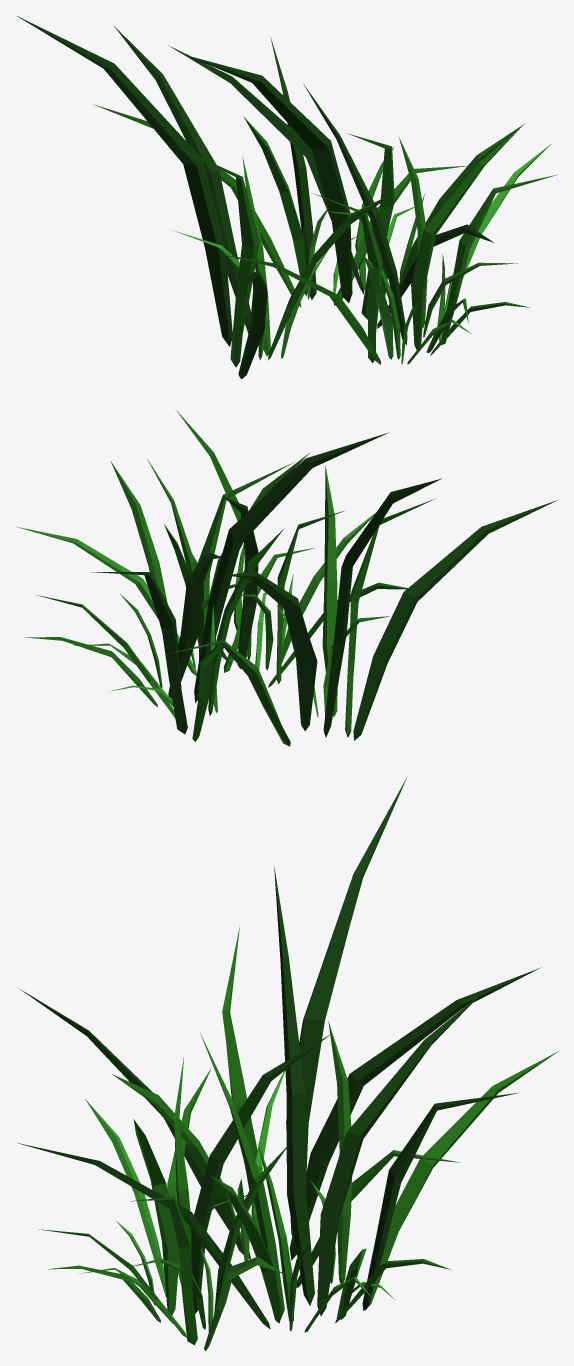
Rendered from GrassPatch_00_1.FBX.
3 renders of one model, top to bottom at view 1: azimuth 30°, elevation 25°; view 2: azimuth 150°, elevation 25°; view 3: azimuth 270°, elevation 25°, orthographic. The views are drawn at different scales.
Visible parts, largest first — view 1: Grass061, Grass031, Grass059, Grass060, Grass044, Grass046, Grass029, Grass038, Grass036, Grass053, Grass057, Grass058 (+16 smaller); view 2: Grass031, Grass057, Grass061, Grass059, Grass038, Grass058, Grass029, Grass060, Grass046, Grass036, Grass056, Grass030 (+14 smaller); view 3: Grass031, Grass029, Grass061, Grass059, Grass046, Grass035, Grass038, Grass044, Grass030, Grass027, Grass036, Grass060 (+14 smaller).
Part boxes in pixels (bbox=[...]): Grass061: bbox=[17, 16, 232, 346]; Grass031: bbox=[186, 55, 352, 302]; Grass059: bbox=[114, 26, 251, 333]; Grass060: bbox=[169, 143, 259, 367]; Grass044: bbox=[411, 123, 524, 349]; Grass046: bbox=[303, 84, 407, 344]; Grass029: bbox=[168, 45, 363, 294]; Grass038: bbox=[270, 36, 316, 299]; Grass036: bbox=[243, 116, 307, 295]; Grass053: bbox=[441, 174, 557, 344]; Grass057: bbox=[238, 270, 267, 379]; Grass058: bbox=[268, 193, 393, 360]; Grass031: bbox=[194, 432, 389, 702]; Grass057: bbox=[353, 500, 557, 740]; Grass061: bbox=[323, 478, 441, 737]; Grass059: bbox=[226, 571, 317, 731]; Grass038: bbox=[91, 572, 187, 734]; Grass058: bbox=[322, 465, 337, 716]; Grass029: bbox=[168, 552, 222, 698]; Grass060: bbox=[345, 498, 436, 737]; Grass046: bbox=[223, 496, 258, 668]; Grass036: bbox=[208, 528, 284, 715]; Grass056: bbox=[170, 640, 290, 746]; Grass030: bbox=[196, 462, 294, 659]; Grass031: bbox=[274, 865, 314, 1305]; Grass029: bbox=[317, 991, 483, 1316]; Grass061: bbox=[286, 778, 406, 1235]; Grass059: bbox=[289, 967, 540, 1260]; Grass046: bbox=[191, 1034, 330, 1313]; Grass035: bbox=[368, 1051, 558, 1306]; Grass038: bbox=[362, 1092, 519, 1310]; Grass044: bbox=[133, 1119, 179, 1315]; Grass030: bbox=[200, 1033, 284, 1318]; Grass027: bbox=[17, 1143, 270, 1329]; Grass036: bbox=[328, 1021, 351, 1283]; Grass060: bbox=[222, 926, 257, 1204].
Size of the model in its own units: 10.39 by 7.28 by 8.99.
